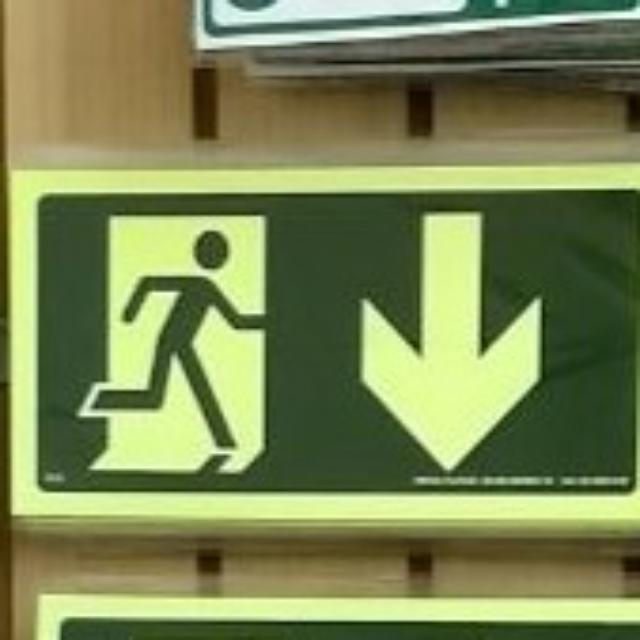exit: (11, 163, 636, 526)
